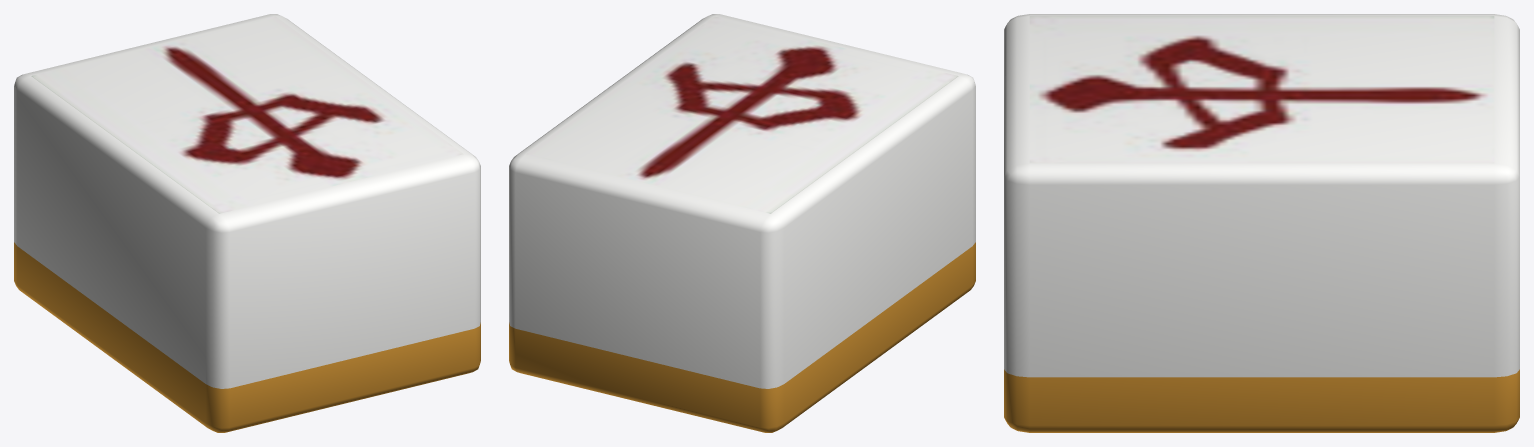
Rendered from chun.fbx.
3 renders of one model, left to right at view 1: azimuth 30°, elevation 25°; view 2: azimuth 150°, elevation 25°; view 3: azimuth 270°, elevation 25°, orthographic. The views are drawn at different scales.
Parts seen in each view (by area): view 1: hai; view 2: hai; view 3: hai.
Part boxes in pixels (x1,y1,x2,y2): hai: (14, 14, 480, 432); hai: (509, 14, 975, 432); hai: (1004, 14, 1519, 432).
Size of the model in its own units: 420 by 320 by 560.
3 materials, 1 textured.
